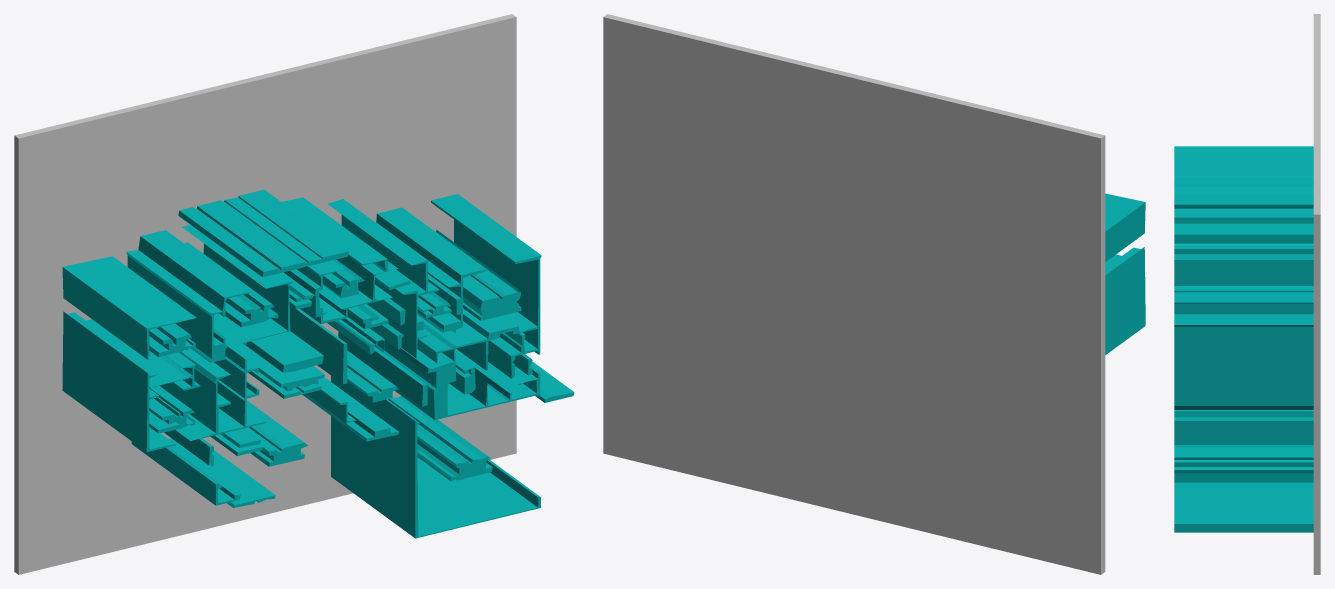
The picture shows the model from 3 angles, left to right: view 1: azimuth 30°, elevation 25°; view 2: azimuth 150°, elevation 25°; view 3: azimuth 270°, elevation 25°; orthographic projection. The views are drawn at different scales.
Parts seen in each view (by area): view 1: world; view 2: world; view 3: world.
Part boxes in pixels (x1,y1,x2,y2): world: (14, 14, 574, 574); world: (603, 14, 1145, 574); world: (1174, 14, 1320, 574).
Size of the model in its own units: 10.23 by 8.57 by 3.15.
